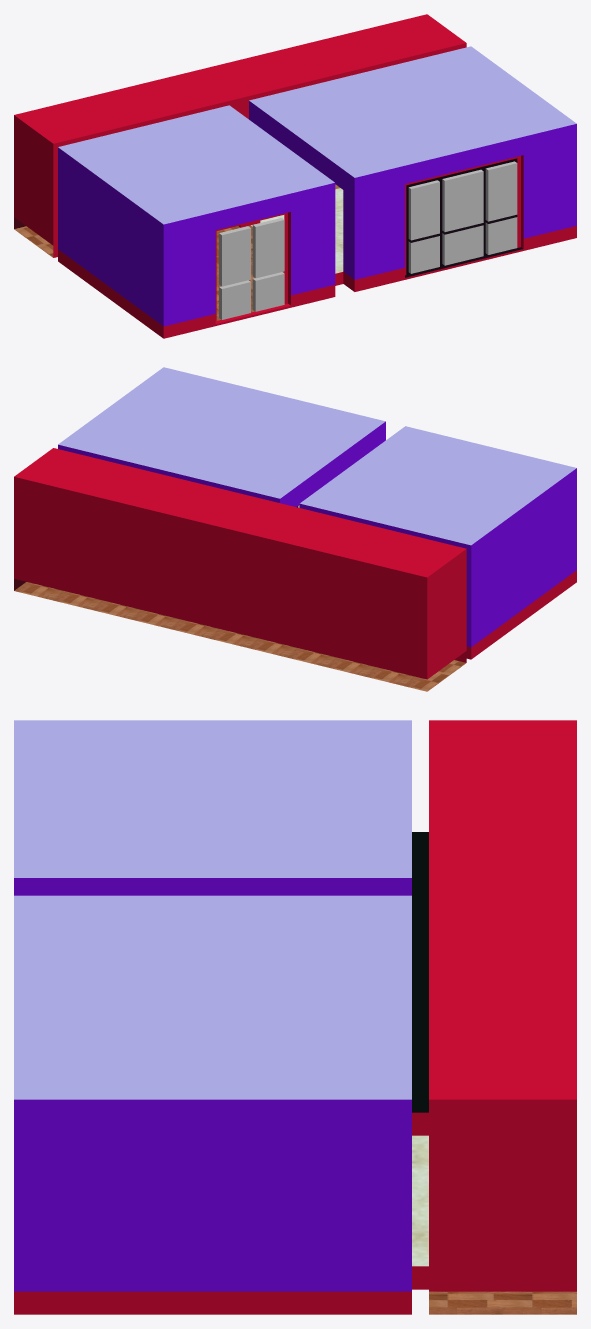
Rendered from ENVI_Lounge.obj.
3 views of the same model, one above another, from view 1: azimuth 30°, elevation 25°; view 2: azimuth 150°, elevation 25°; view 3: azimuth 270°, elevation 25° (orthographic). The views are drawn at different scales.
Parts seen in each view (by area): view 1: ENVI_Lounge; view 2: ENVI_Lounge; view 3: ENVI_Lounge.
Boxes of the visible parts, x1,y1,x2,y2 form: ENVI_Lounge: [14, 14, 576, 338]; ENVI_Lounge: [14, 367, 576, 691]; ENVI_Lounge: [14, 720, 576, 1314].
Bounding box in the file's own units: 10.6 × 2.8 × 6.65.
10 materials, 4 textured.
